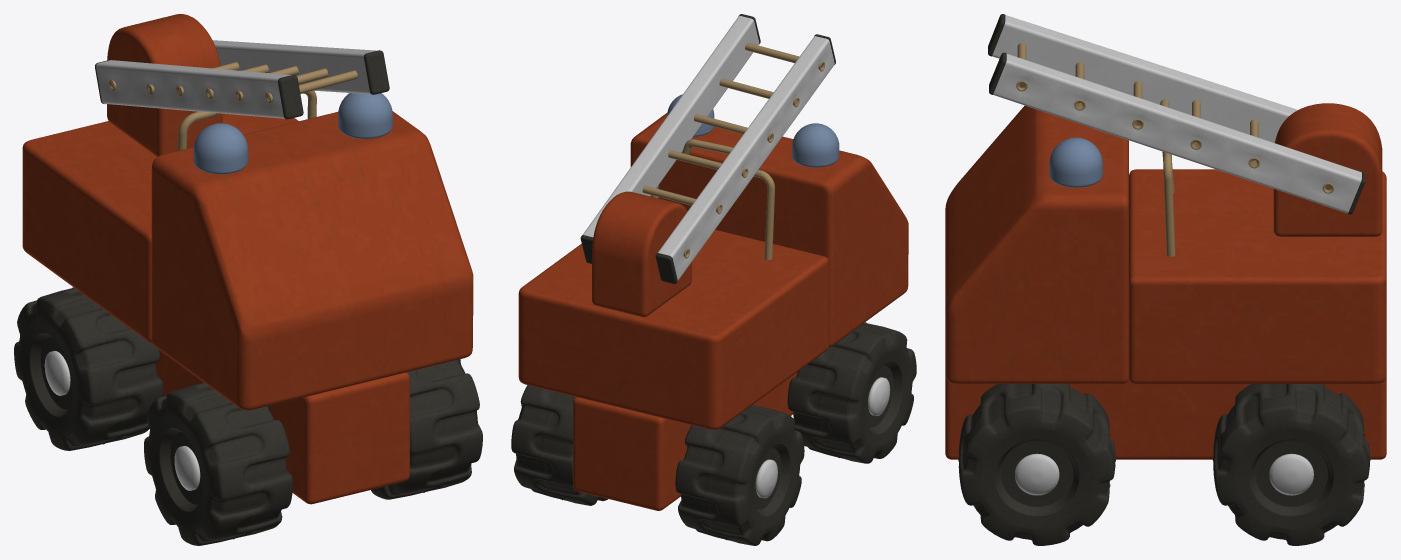
File: toy-firetruck.glb
3 renders of one model, left to right at view 1: azimuth 30°, elevation 25°; view 2: azimuth 150°, elevation 25°; view 3: azimuth 270°, elevation 25°, orthographic. The views are drawn at different scales.
Visible parts, largest first — view 1: Cabin, Wheels, Body, Base, Ladder Railings, Ladder Turret, Flashing Lights, Wire Parts, Ladder Caps, Hubcaps; view 2: Body, Wheels, Cabin, Ladder Railings, Base, Ladder Turret, Wire Parts, Flashing Lights, Hubcaps, Ladder Caps; view 3: Body, Cabin, Wheels, Ladder Railings, Base, Ladder Turret, Hubcaps, Wire Parts, Flashing Lights, Ladder Caps.
Part boxes in pixels (x1,y1,x2,y2): Cabin: (151,111,473,410); Wheels: (14,287,482,545); Body: (22,113,298,342); Base: (156,350,409,504); Ladder Railings: (96,40,376,118); Ladder Turret: (107,14,222,156); Flashing Lights: (193,93,392,174); Wire Parts: (109,62,357,150); Ladder Caps: (95,50,389,119); Hubcaps: (44,351,200,490); Body: (518,229,828,429); Wheels: (511,322,916,545); Cabin: (630,113,908,346); Ladder Railings: (583,15,834,280); Base: (573,372,797,510); Ladder Turret: (592,191,691,316); Wire Parts: (642,42,824,259); Flashing Lights: (667,94,839,167); Hubcaps: (755,377,890,498); Ladder Caps: (580,14,835,283); Body: (1129,169,1386,383); Cabin: (945,105,1128,383); Wheels: (958,384,1370,545); Ladder Railings: (992,15,1361,213); Base: (945,376,1386,459); Ladder Turret: (1273,103,1382,236); Hubcaps: (1015,453,1313,495); Wire Parts: (1016,42,1334,256); Flashing Lights: (1049,137,1102,187); Ladder Caps: (988,14,1365,214).
Bounding box in the file's own units: 0.1031 × 0.169 × 0.15.
Materials: 5 (3 with a texture image).
